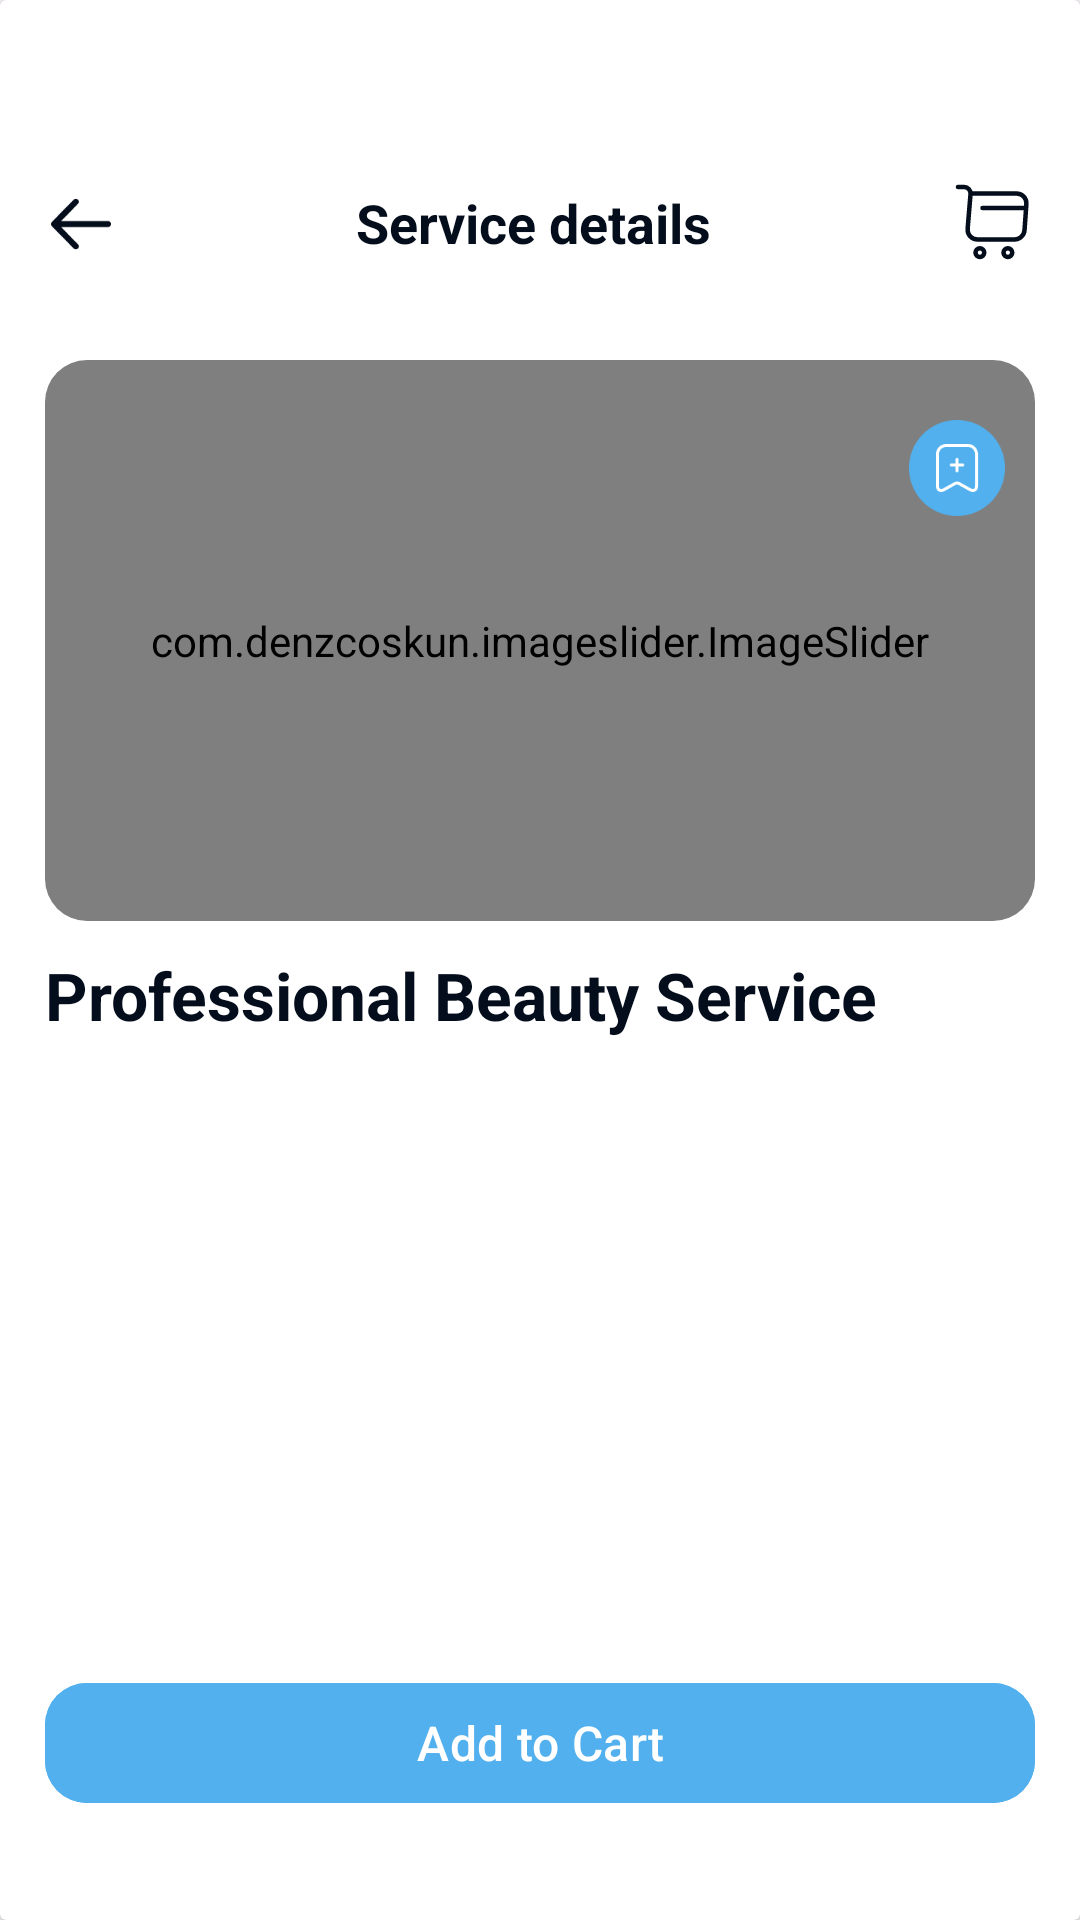

Icons on this 1080w x 1920h Android screen, each with its box as (x1, y1, x2, y2):
arrow left: (51, 199, 111, 250)
shopping cart: (955, 184, 1029, 260)
